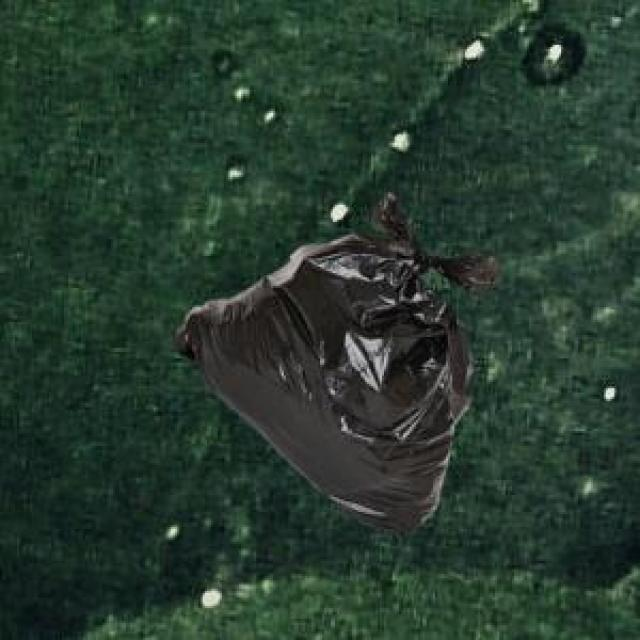miscellaneous trash: (171, 190, 495, 531)
